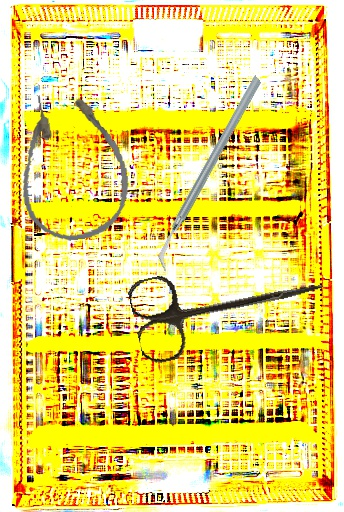Cannula: (9, 83, 136, 247)
Chopper: (102, 73, 318, 273)
Iris Scissors: (125, 240, 332, 367)
